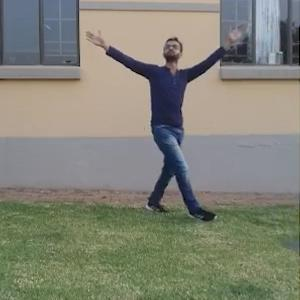takeoff: (93, 26, 246, 222)
